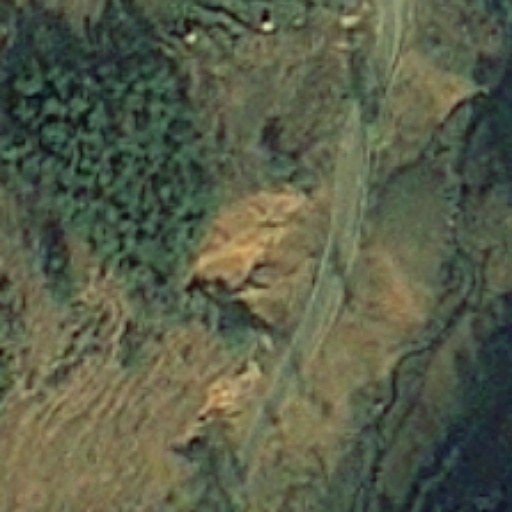landslide: (194, 198, 298, 278)
